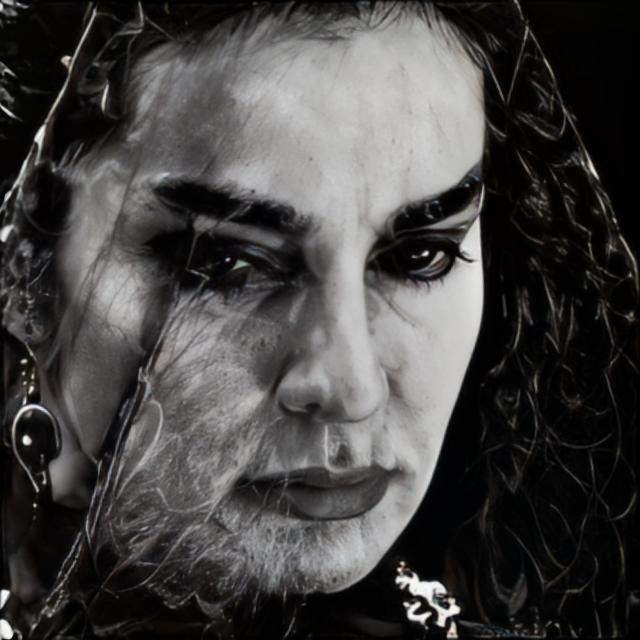anger: (121, 50, 488, 595)
